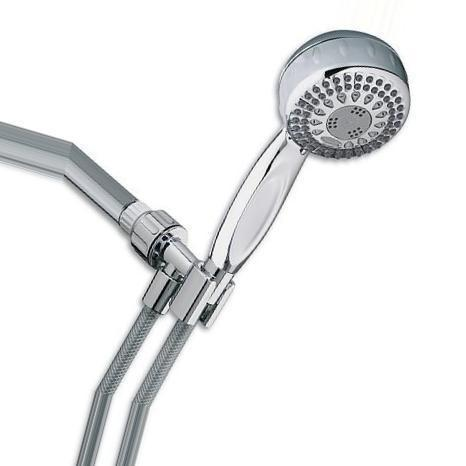Ducha: (0, 19, 414, 465)
